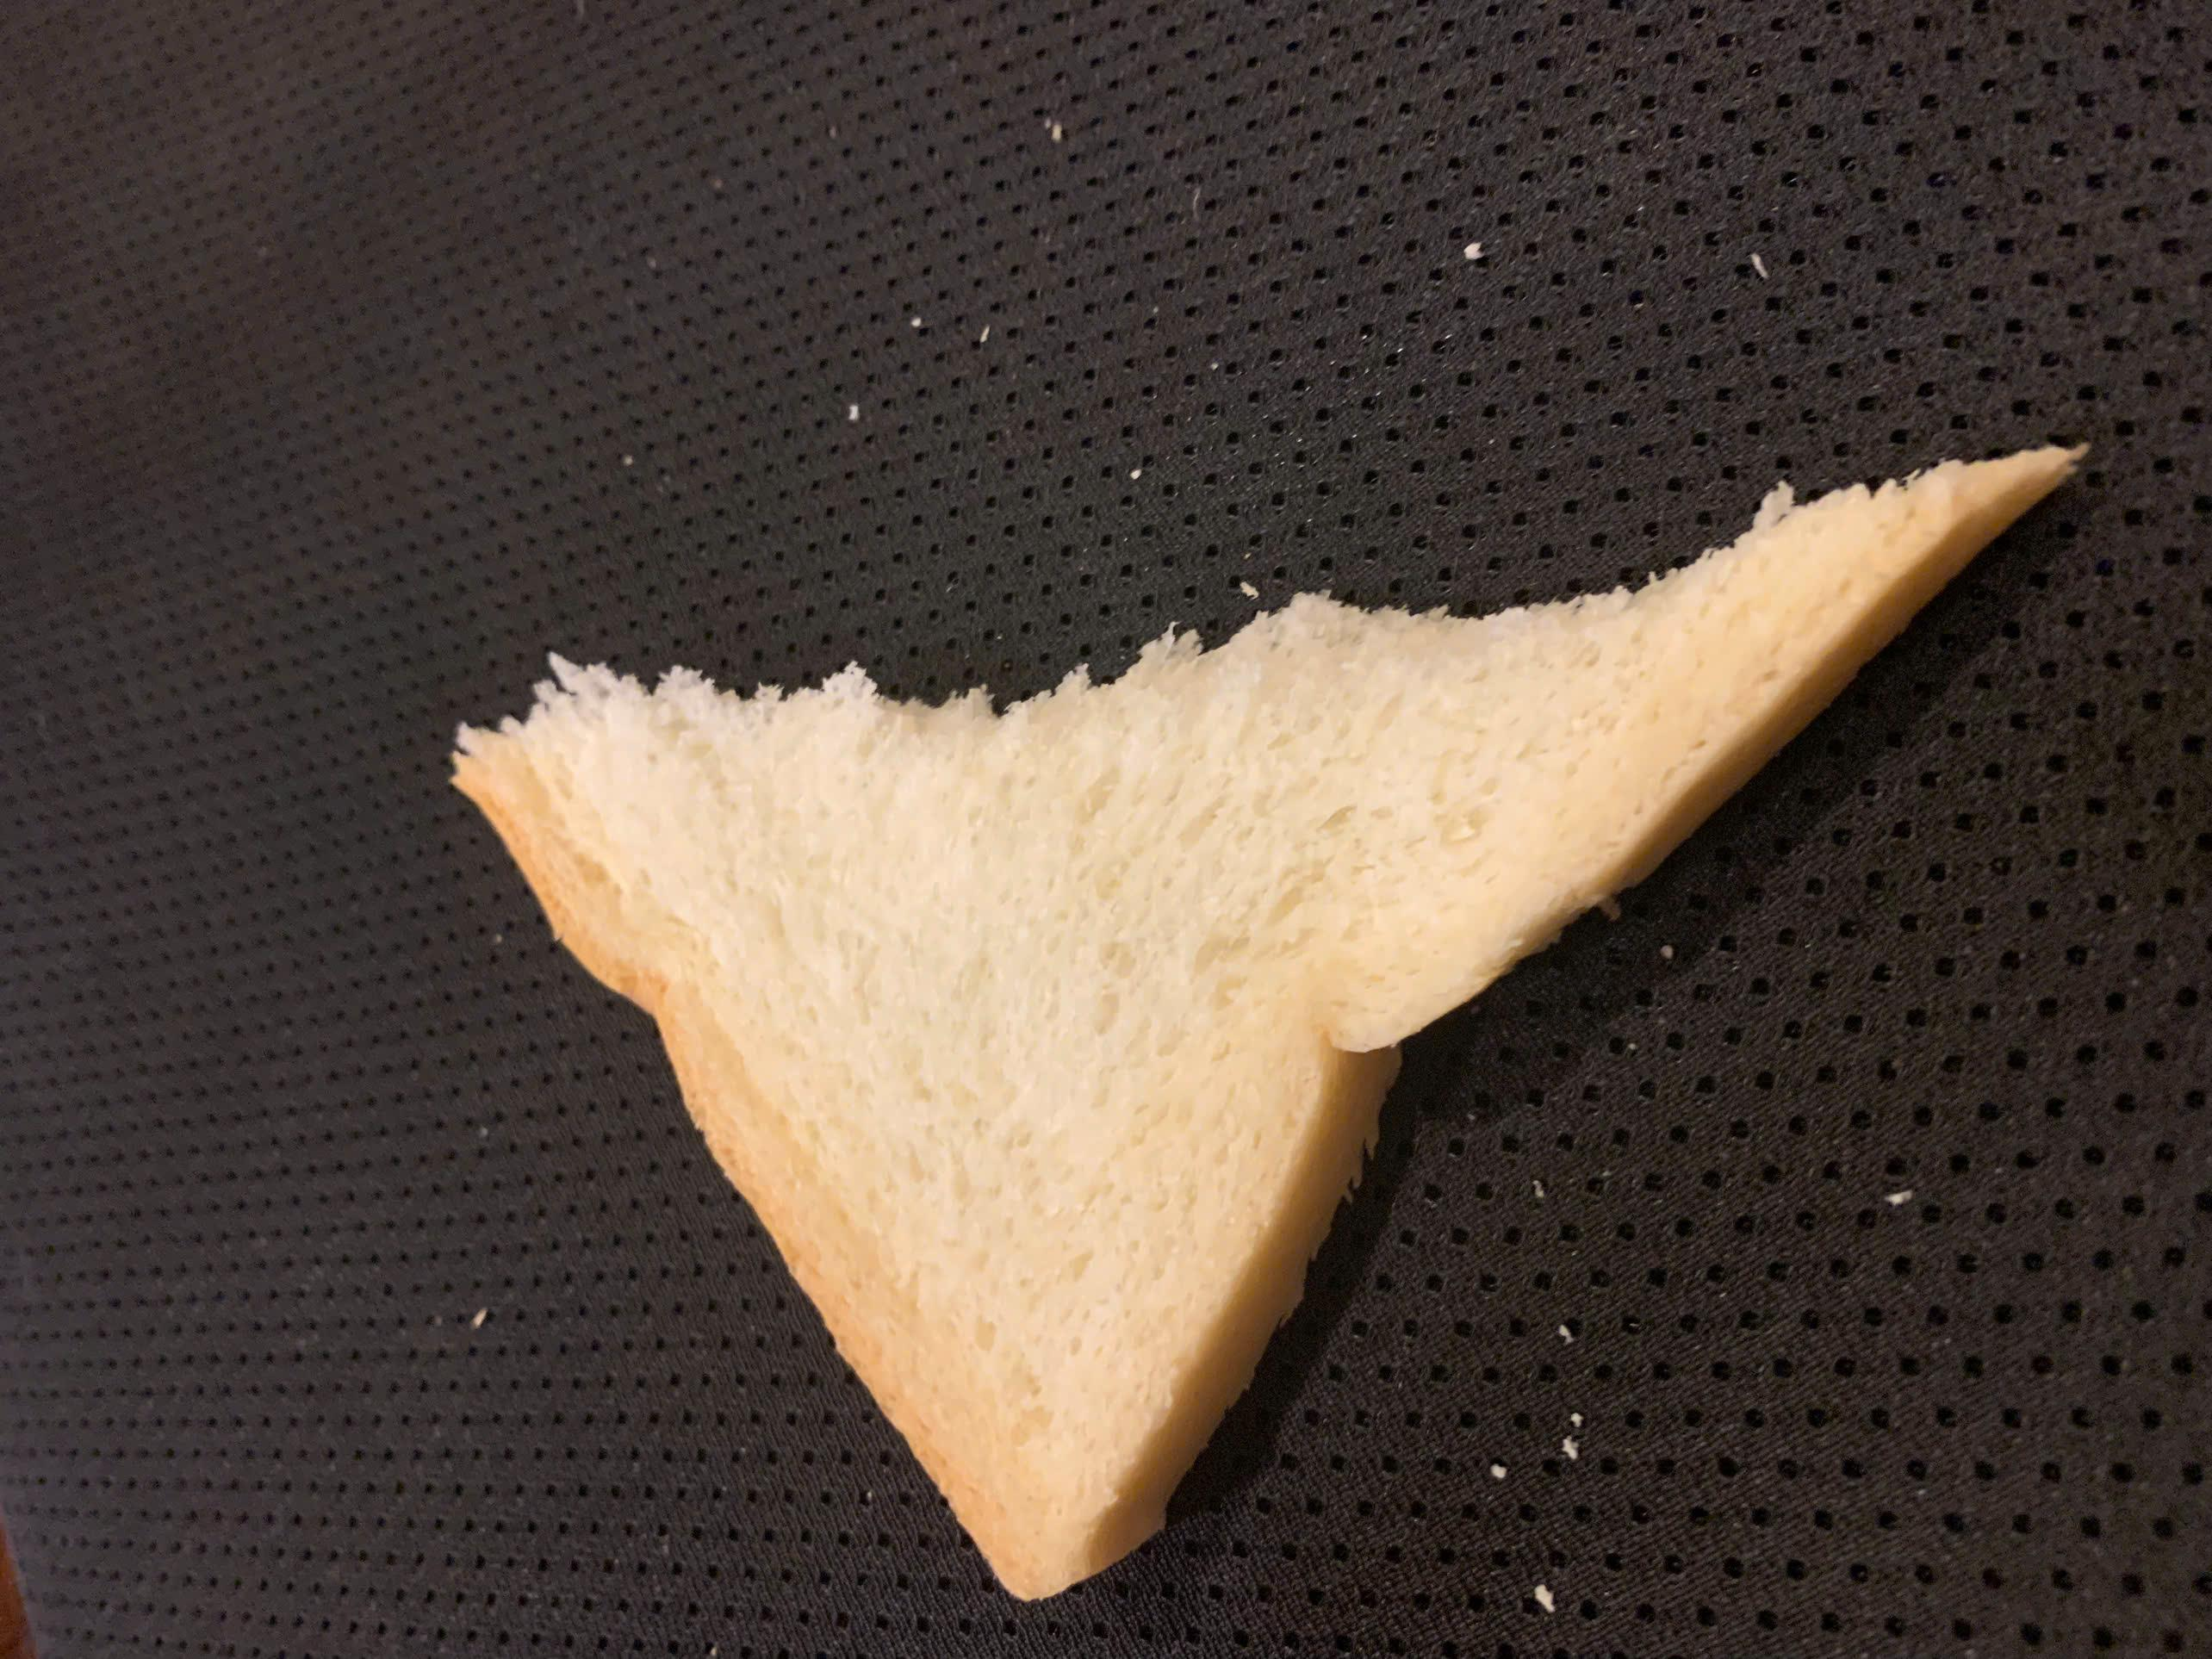Huu co: (453, 446, 2080, 1607)
